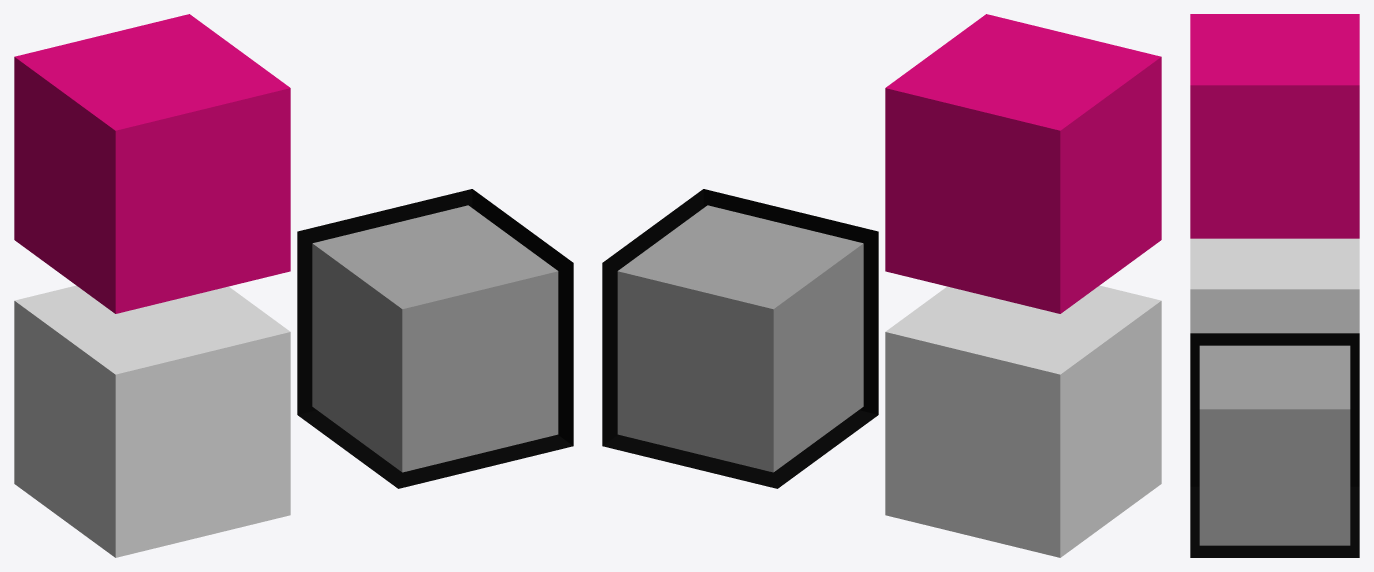
Rendered from CubesCellTest.fbx.
3 renders of one model, left to right at view 1: azimuth 30°, elevation 25°; view 2: azimuth 150°, elevation 25°; view 3: azimuth 270°, elevation 25°, orthographic. The views are drawn at different scales.
Parts seen in each view (by area): view 1: pCube9, pCube5, pCube7, pCube6; view 2: pCube9, pCube5, pCube7, pCube6; view 3: pCube9, pCube7, pCube5, pCube6.
Part boxes in pixels (box(x1,y1,x2,y2)): pCube9: box(14, 14, 290, 313); pCube5: box(14, 285, 290, 557); pCube7: box(312, 205, 558, 472); pCube6: box(297, 189, 573, 488); pCube9: box(885, 14, 1161, 313); pCube5: box(885, 285, 1161, 557); pCube7: box(617, 205, 863, 472); pCube6: box(602, 189, 878, 488); pCube9: box(1190, 14, 1359, 238); pCube7: box(1199, 345, 1350, 545); pCube5: box(1190, 238, 1359, 333); pCube6: box(1190, 333, 1359, 557).
Size of the model in its own units: 10.22 by 9.11 by 3.91.
